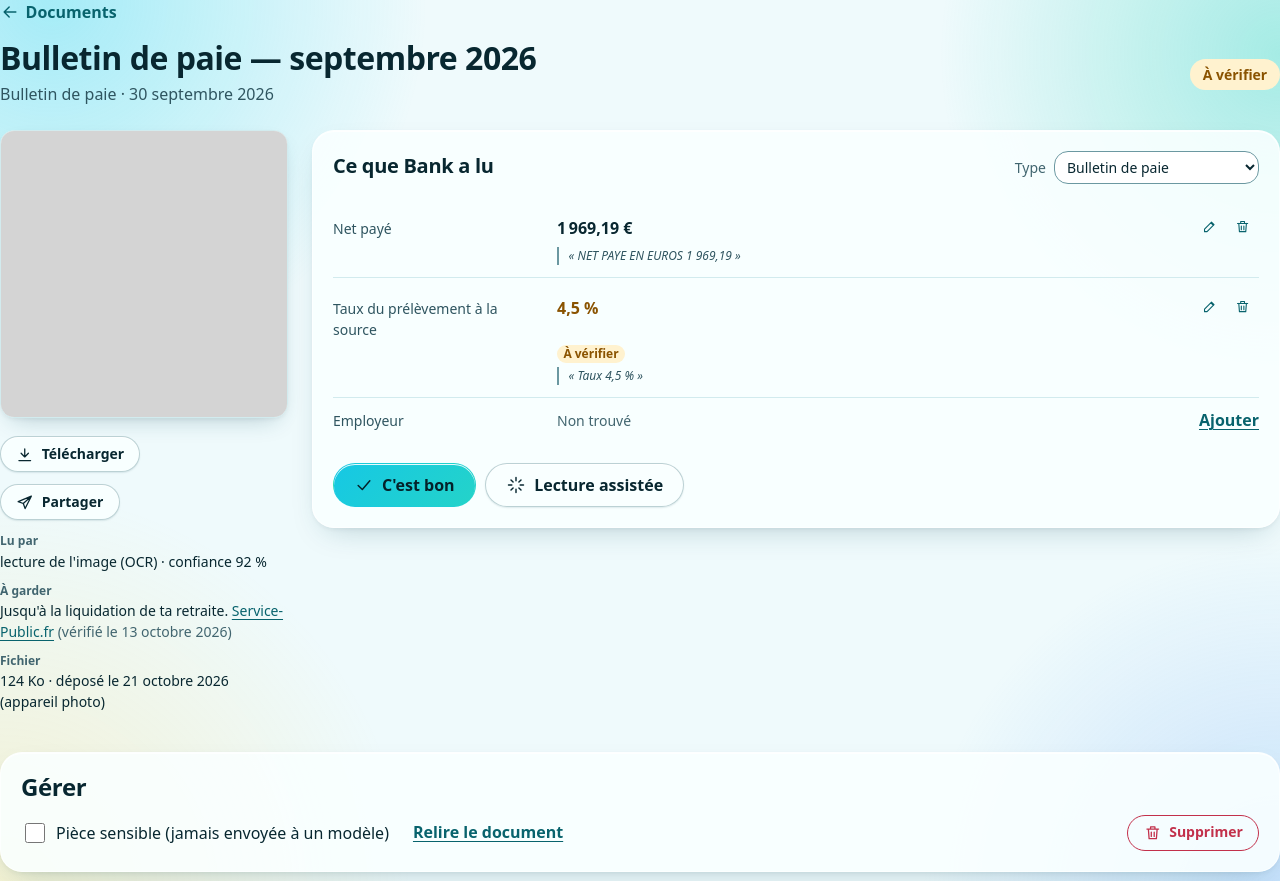
Test: détail d'un document › runs the assisted reading and says what was set aside
This screenshot has width=1280, height=881.
Click the button "Lecture assistée": click(585, 485) [485,463,684,507]
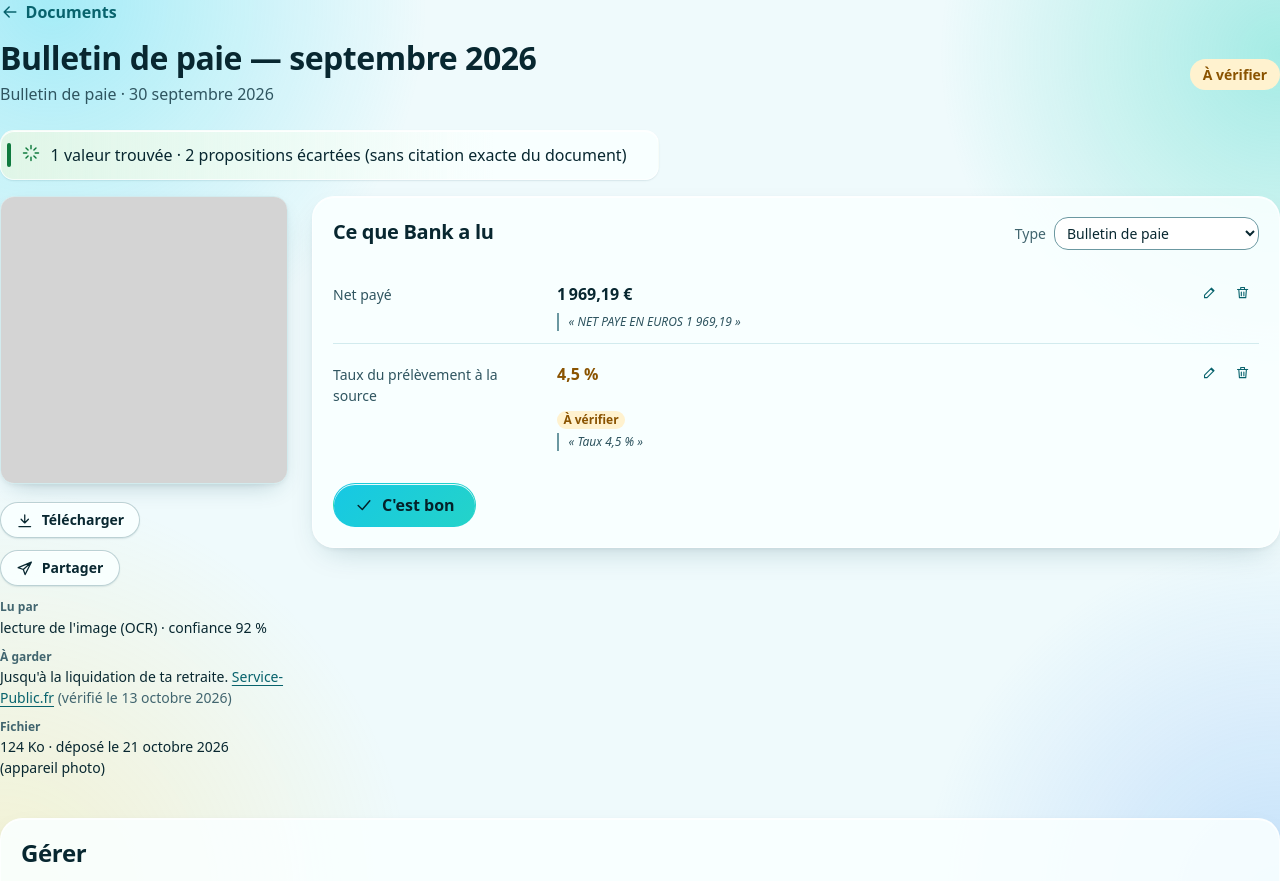
expect the text "1 valeur trouvée · 2 propositions écartées (sans citation exacte du document)" is shown: met, box [51,143,626,167]
